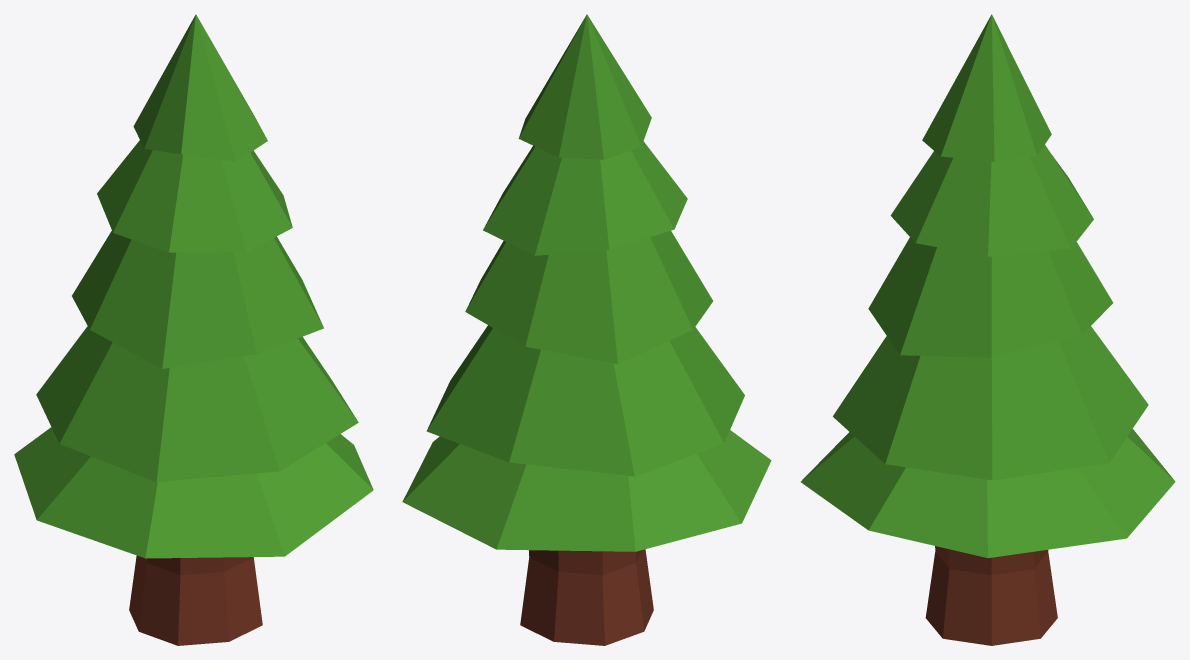
The model's file is maya_export_Tree2_v2.fbx.
3 renders of one model, left to right at view 1: azimuth 30°, elevation 25°; view 2: azimuth 150°, elevation 25°; view 3: azimuth 270°, elevation 25°, orthographic.
Parts seen in each view (by area): view 1: Tree2_v2; view 2: Tree2_v2; view 3: Tree2_v2.
Part boxes in pixels (box(x1,y1,x2,y2)): Tree2_v2: box(14, 14, 373, 645); Tree2_v2: box(402, 14, 771, 645); Tree2_v2: box(801, 14, 1175, 645).
Bounding box in the file's own units: 3.2 × 5.9 × 3.32.
Materials: 1 (1 with a texture image).
